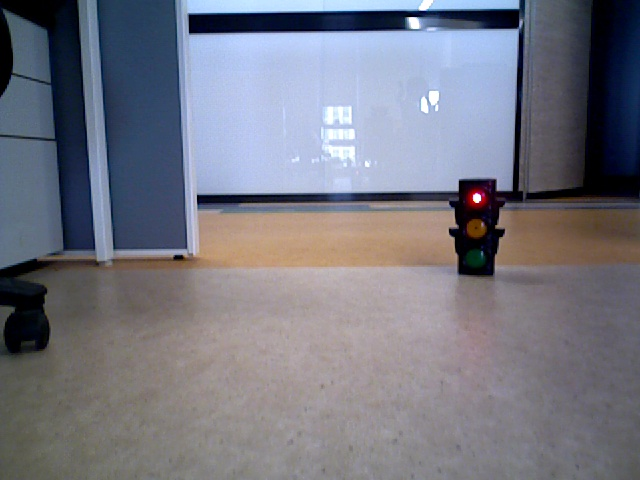red: (458, 183, 495, 270)
